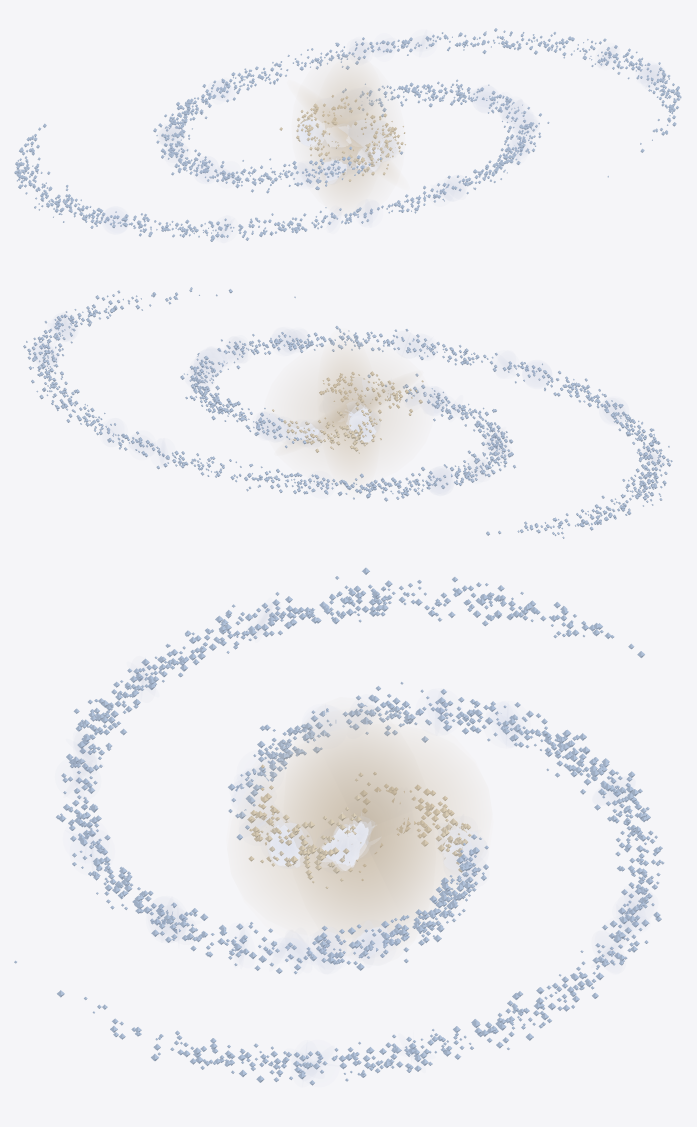
The picture shows the model from 3 angles, top to bottom: view 1: azimuth 30°, elevation 25°; view 2: azimuth 150°, elevation 25°; view 3: azimuth 270°, elevation 25°; orthographic projection. The views are drawn at different scales.
Bounding box in the file's own units: 7.22 × 1.78 × 4.07.
